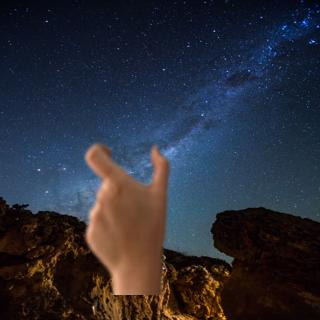Irritated: (76, 141, 180, 283)
